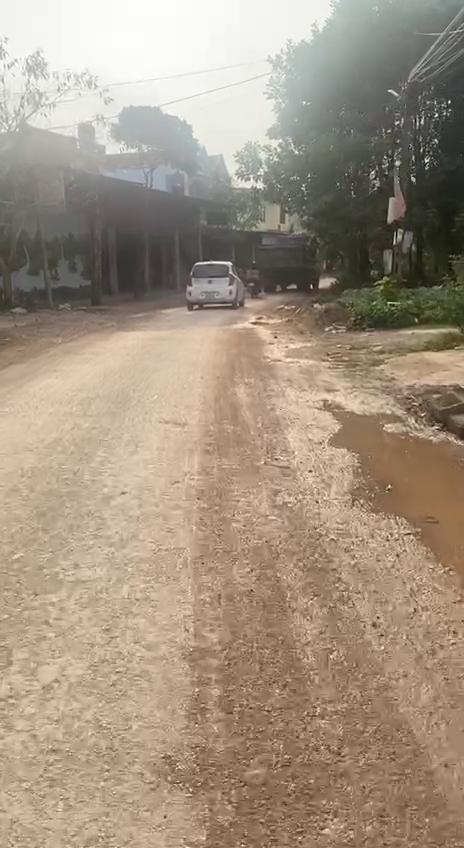pothole: (318, 386, 464, 584)
